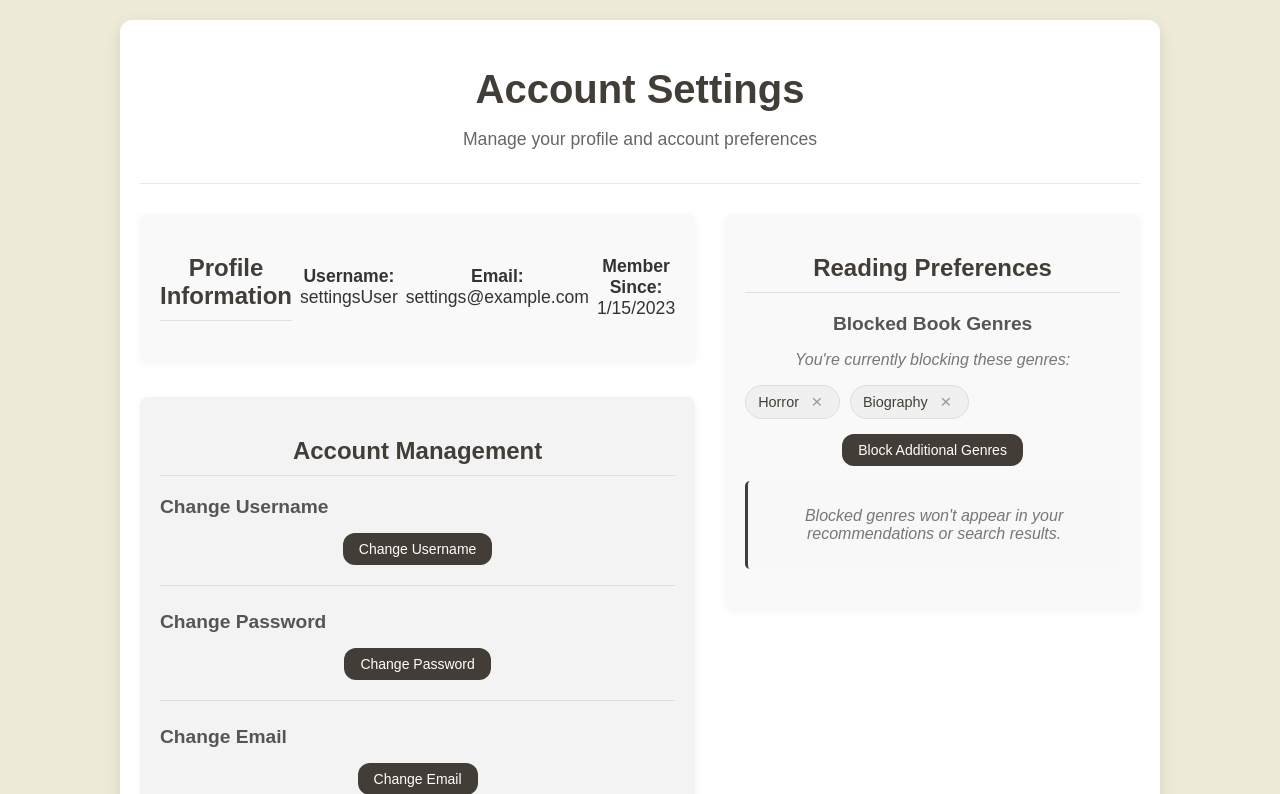
Test: Settings Component › adds a custom blocked genre and shows success message
Click the button "Block Additional Genres" at x=933, y=450, box [842,434,1023,466]
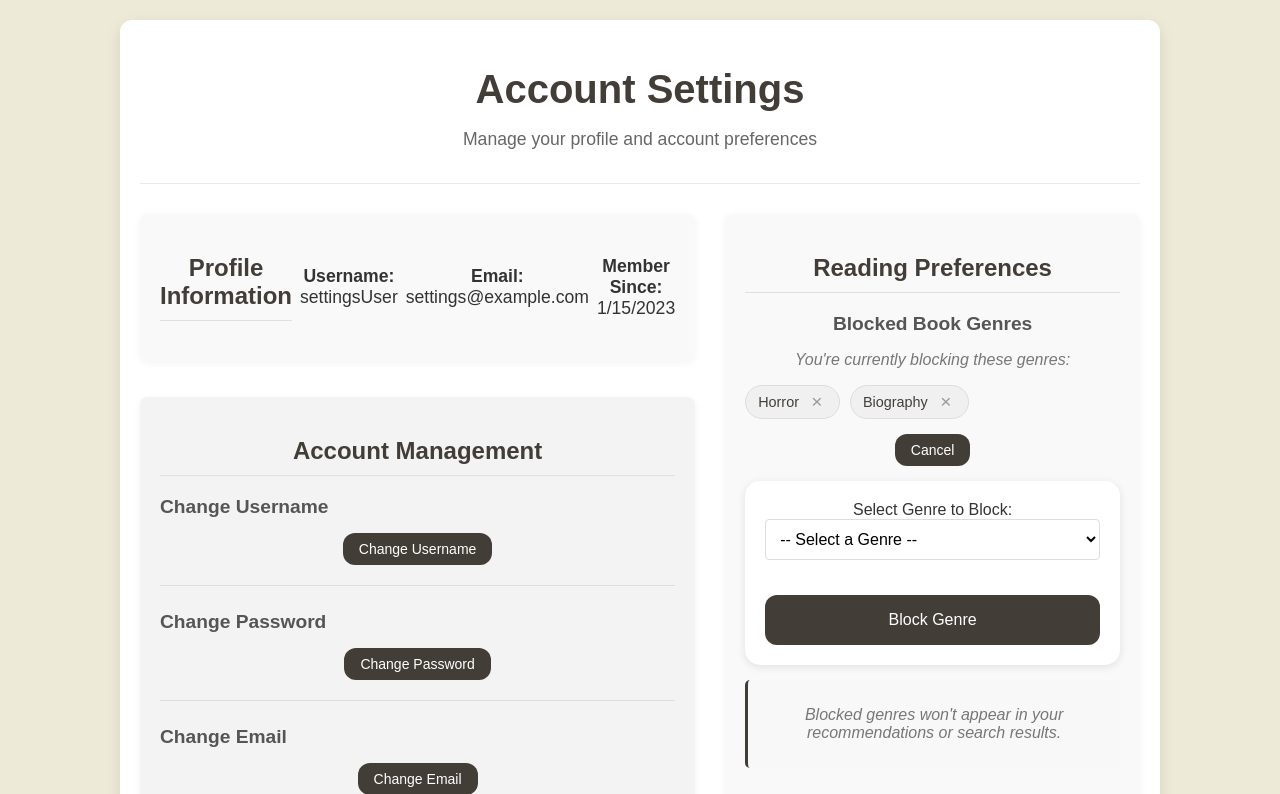
Select "Custom" in the dropdown labelled "Select Genre to Block:" at x=933, y=539, box [765,519,1100,560]
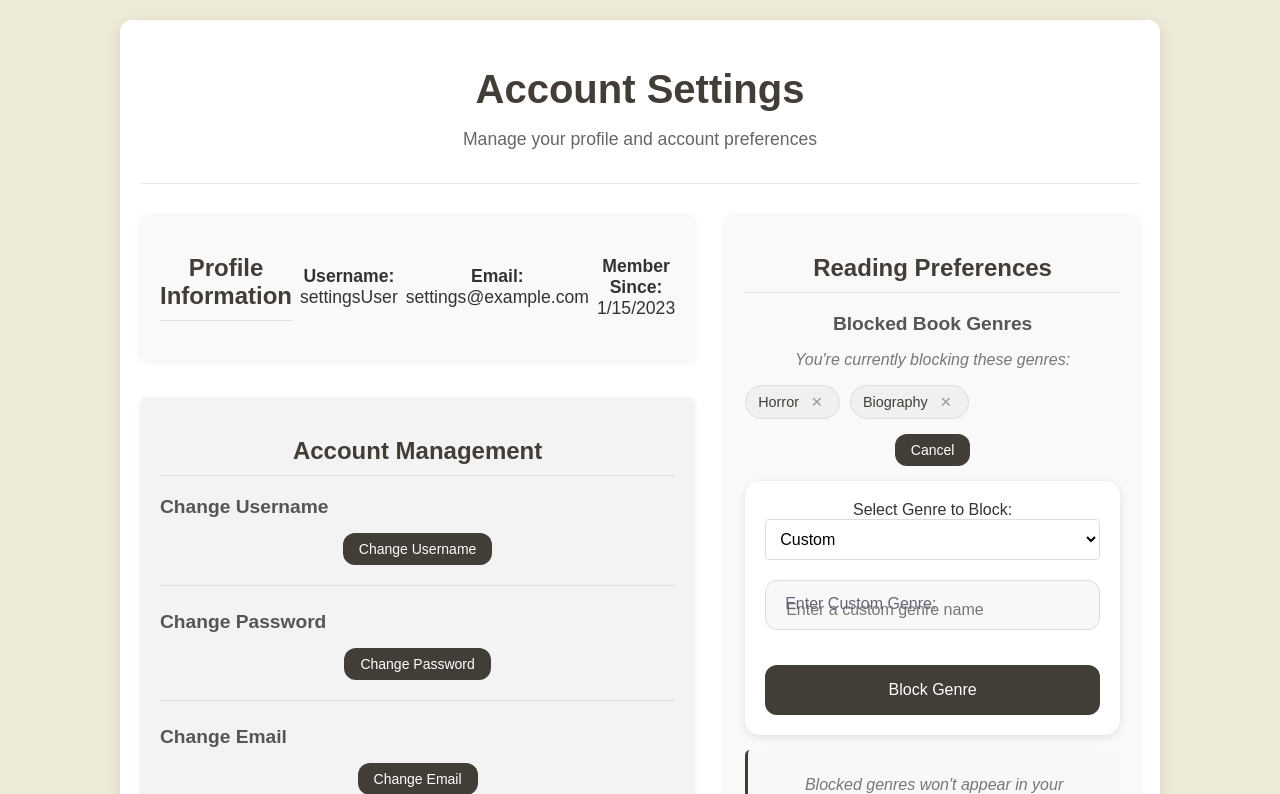
Type "Dark Fantasy" into the field with placeholder "Enter a custom genre name" at x=933, y=605, box [765,580,1100,630]
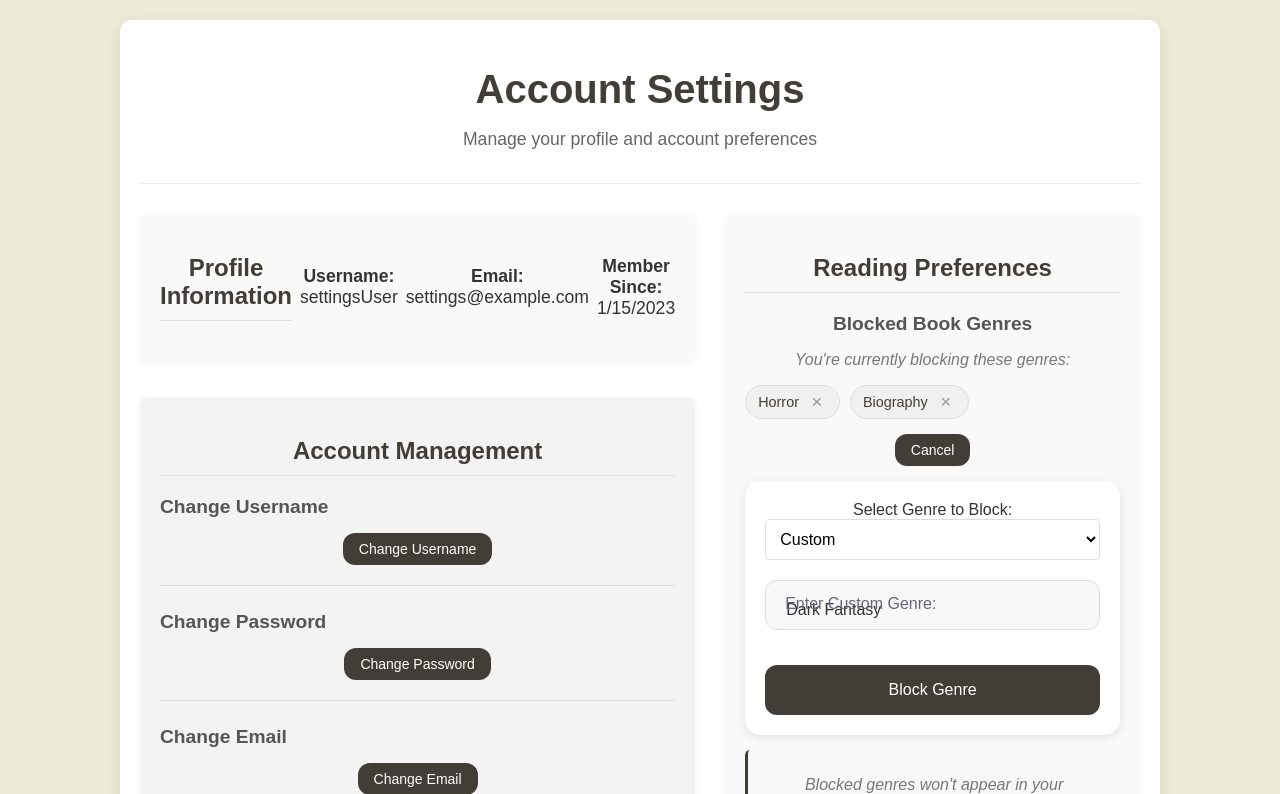
Click the button "Block Genre" at x=933, y=690, box [765,665,1100,715]
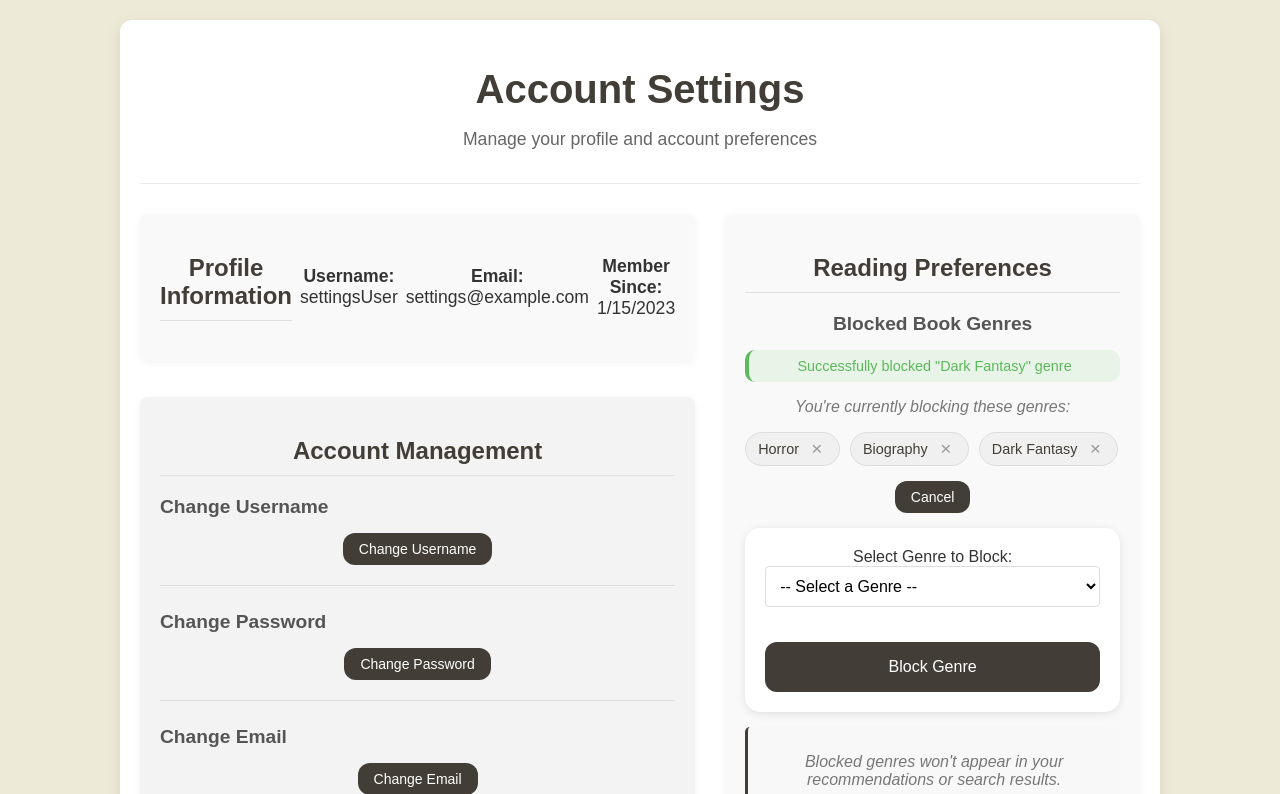
Now the list item "Dark Fantasy" is shown, box [992,441,1077,457]
Now the text "Successfully blocked \"Dark Fantasy\" genre" is shown, box [745,350,1120,382]
